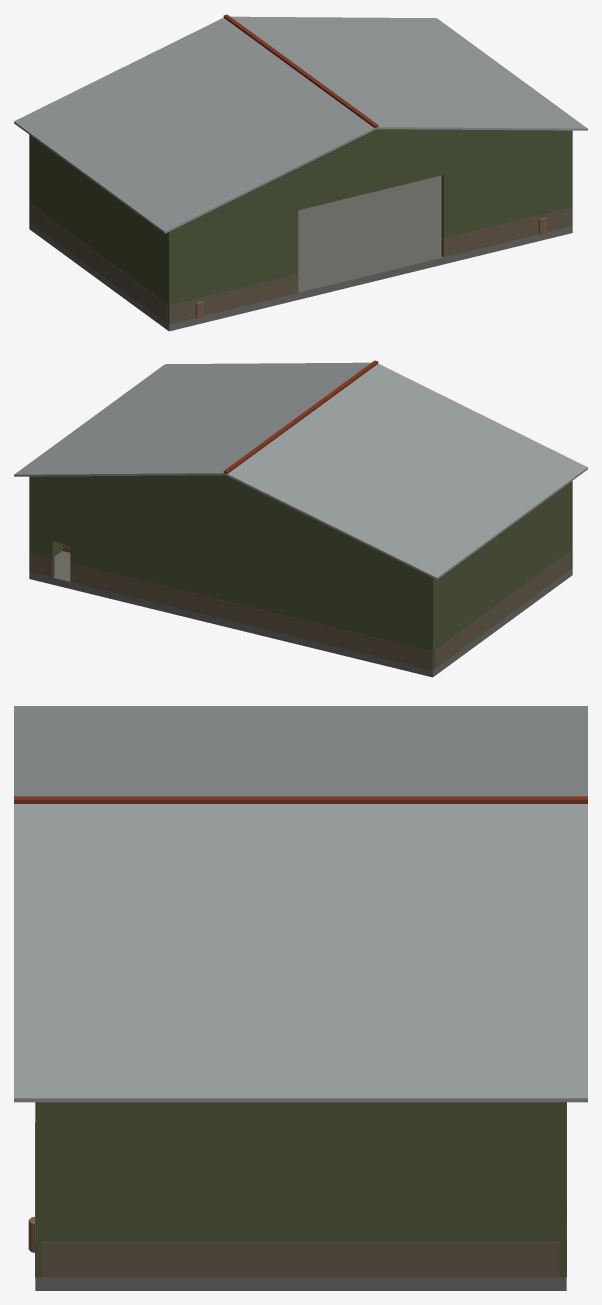
File: garagem_viaturas_a.glb
The picture shows the model from 3 angles, top to bottom: view 1: azimuth 30°, elevation 25°; view 2: azimuth 150°, elevation 25°; view 3: azimuth 270°, elevation 25°; orthographic projection. The views are drawn at different scales.
Visible parts, largest first — view 1: garagem_viaturas_a; view 2: garagem_viaturas_a; view 3: garagem_viaturas_a.
Boxes of the visible parts, <box> form: garagem_viaturas_a: <box>14,14,587,331</box>; garagem_viaturas_a: <box>14,360,587,677</box>; garagem_viaturas_a: <box>14,706,587,1290</box>.
Bounding box in the file's own units: 26.2 × 9.52 × 16.2.
